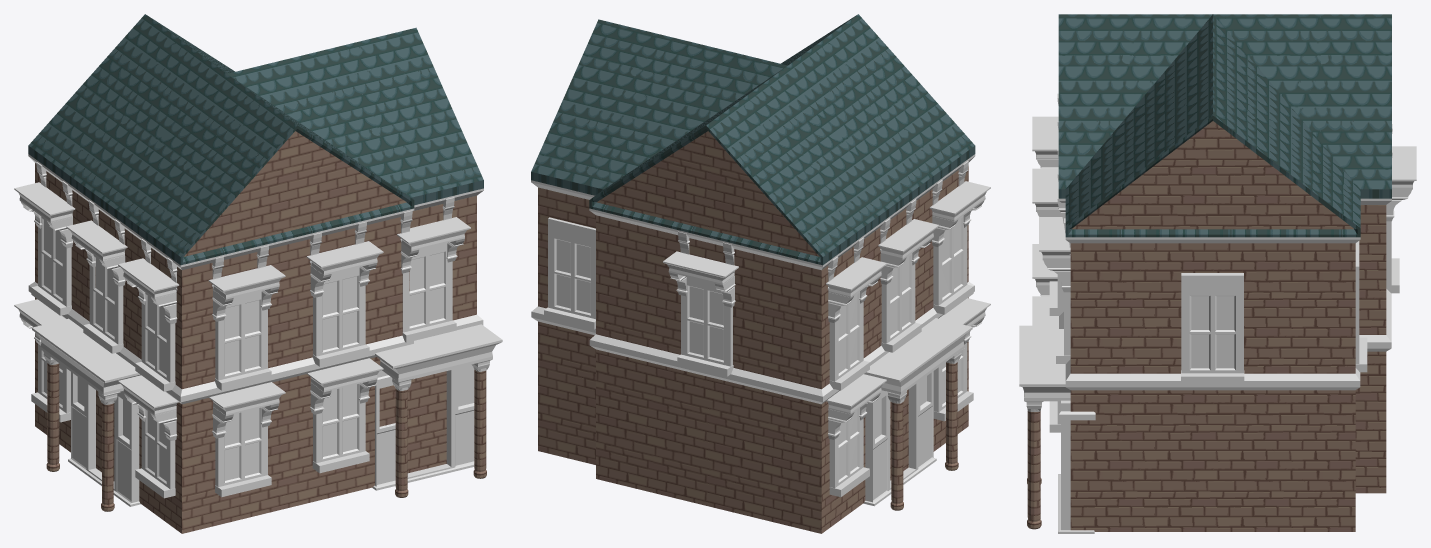
File: 单体建筑1x1拐角.fbx
3 views of the same model, side by side, from view 1: azimuth 30°, elevation 25°; view 2: azimuth 150°, elevation 25°; view 3: azimuth 270°, elevation 25° (orthographic). The views are drawn at different scales.
Parts seen in each view (by area): view 1: 1x1修改.001, 1x1修改.glass; view 2: 1x1修改.001, 1x1修改.glass; view 3: 1x1修改.001, 1x1修改.glass.
Part boxes in pixels (x1,y1,x2,y2): 1x1修改.001: (14, 14, 502, 533); 1x1修改.glass: (44, 220, 443, 481); 1x1修改.001: (531, 14, 990, 533); 1x1修改.glass: (556, 219, 961, 479); 1x1修改.001: (1019, 14, 1416, 533); 1x1修改.glass: (1191, 296, 1234, 368).
Bounding box in the file's own units: 1821 × 1913 × 1637.
Materials: 4 (2 with a texture image).
